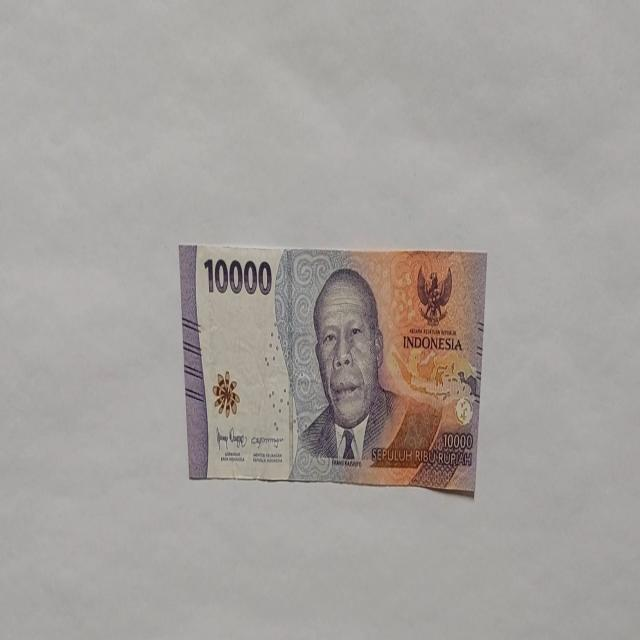sepuluh ribu rupiah: (178, 242, 488, 496)
